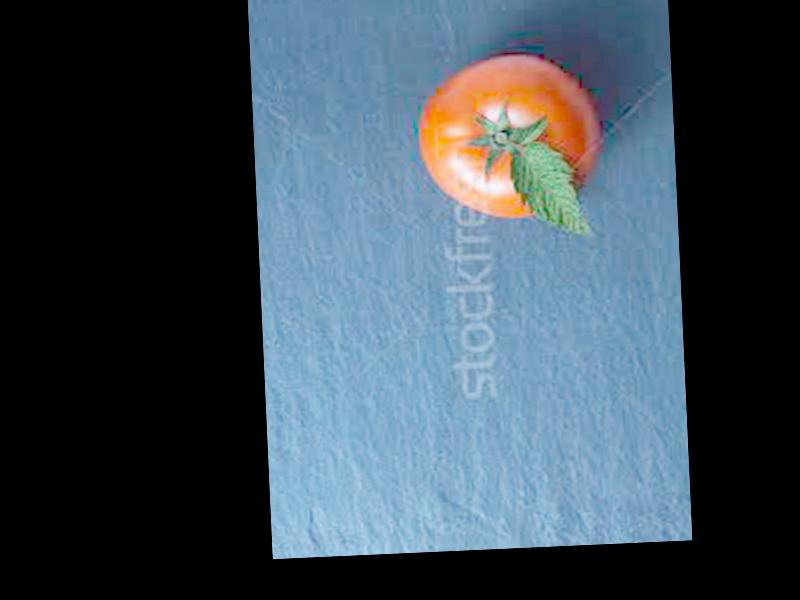Tomato: (416, 53, 600, 223)
